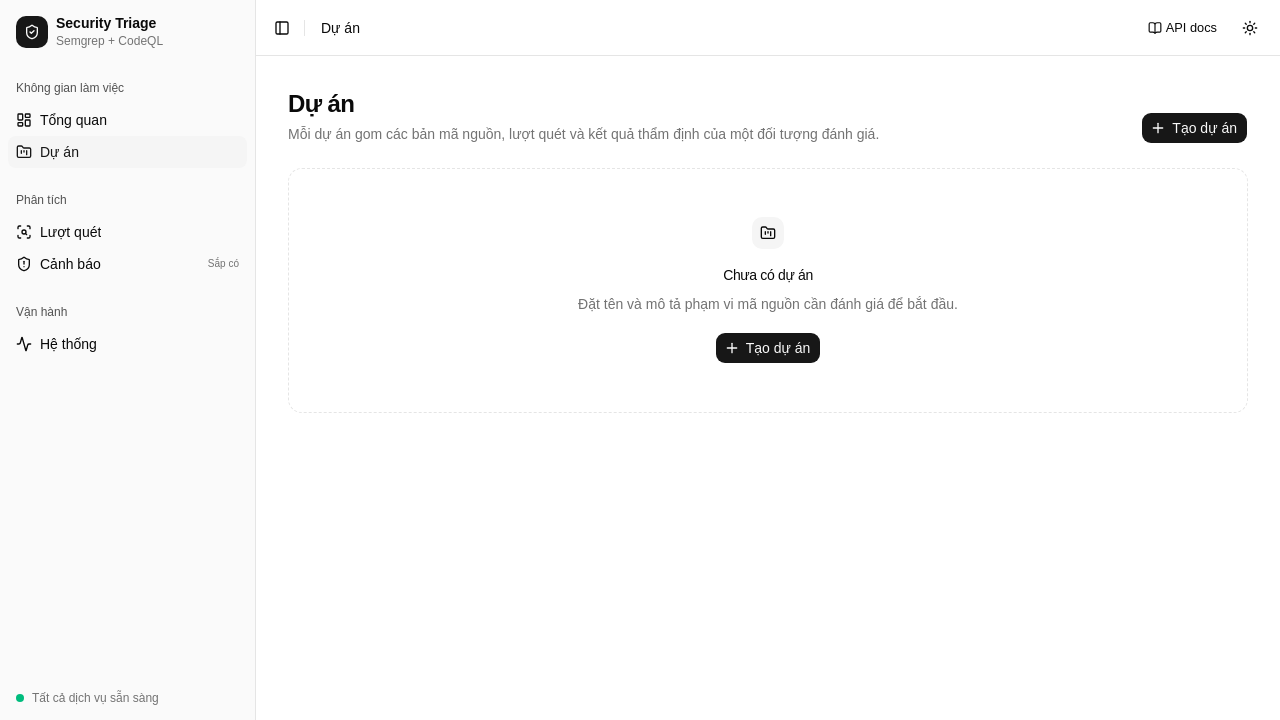
it: Create project dialog › creates the project, then opens its detail page
This screenshot has width=1280, height=720.
Expected: the text "Chưa có dự án" is shown, [723, 265, 813, 285]
Step 1. Click the 1st button "Tạo dự án" → (1195, 128), box [1141, 112, 1248, 144]
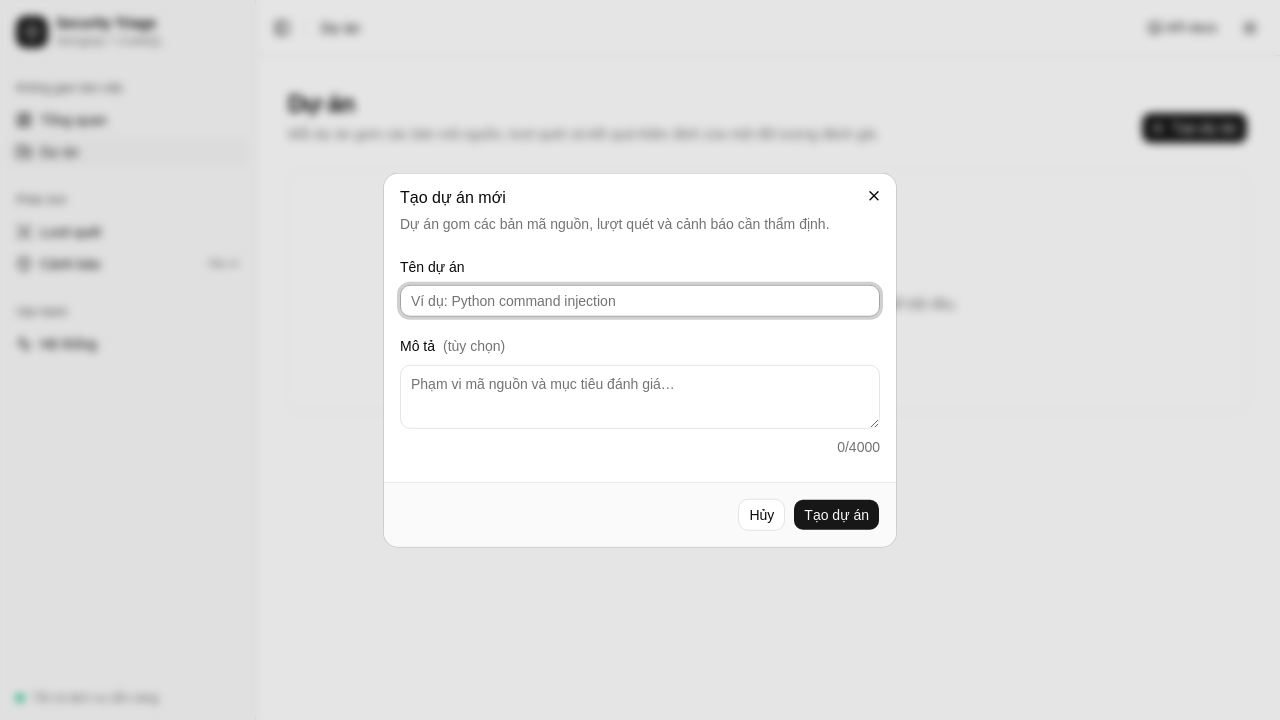
Step 2. Type "  Payment API  " into the field labelled "Tên dự án" → (640, 301), box [400, 285, 880, 317]
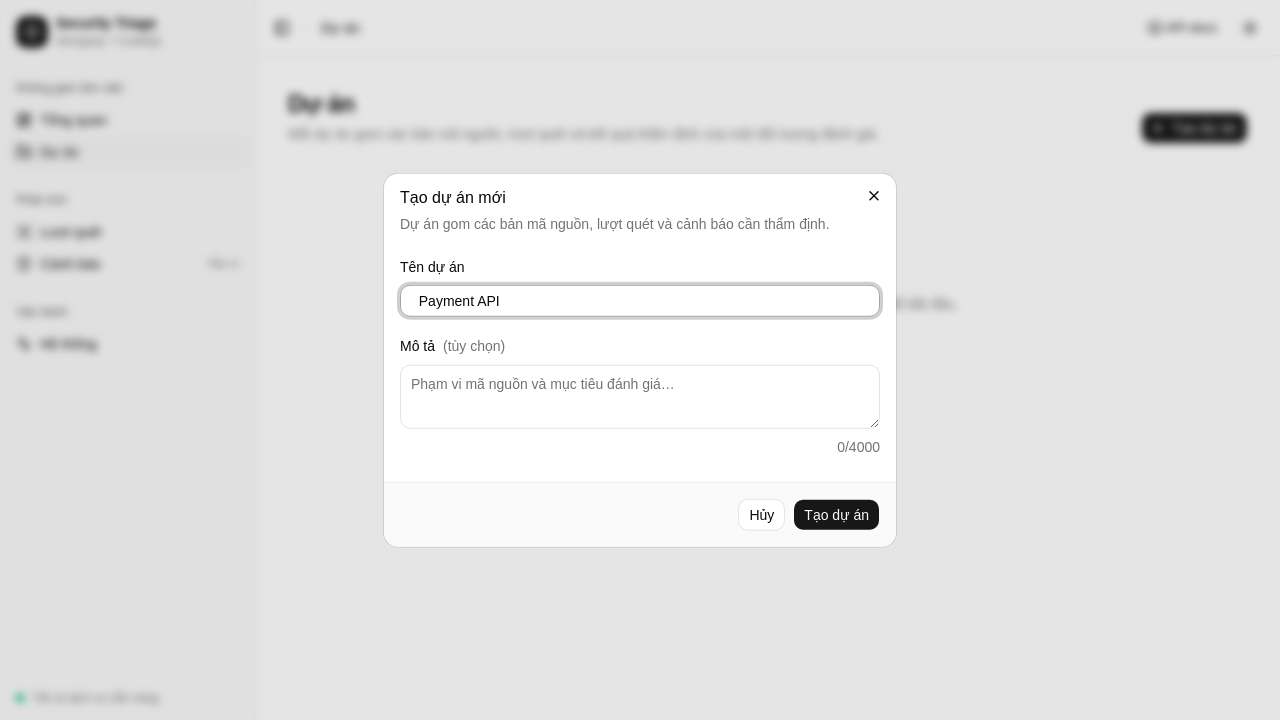
Step 3. Type "CWE-78 review" into the text box labelled "Mô tả (tùy chọn)" → (640, 396), box [400, 364, 880, 428]
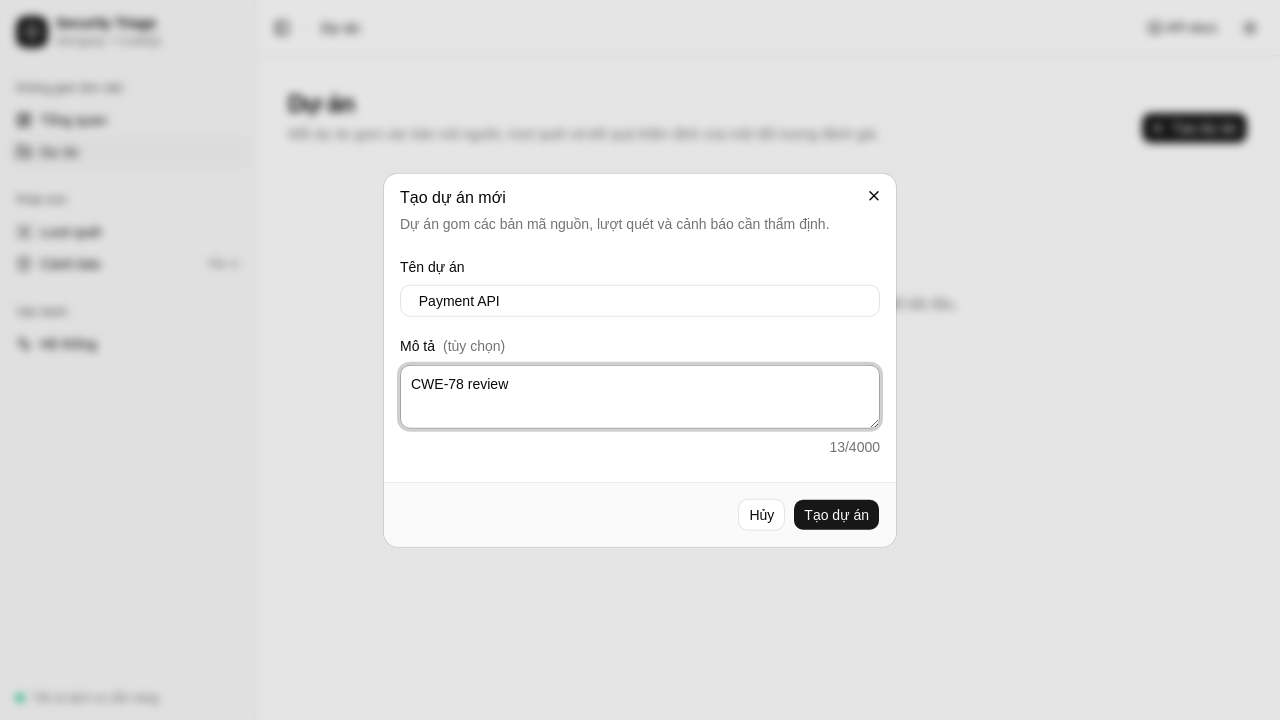
Step 4. Click the button "Tạo dự án" → (837, 514), box [793, 498, 880, 530]
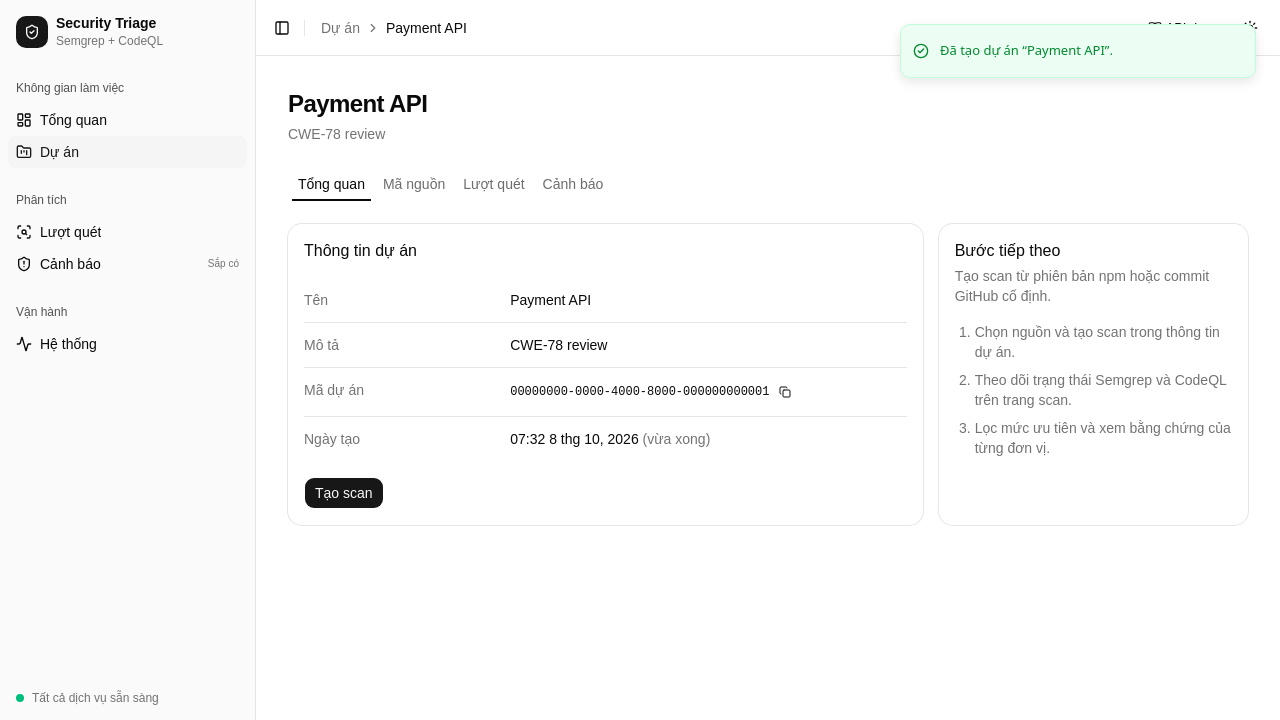
Expected: the heading "Payment API" is shown, [288, 88, 427, 120]
Expected: the text "Đã tạo dự án “Payment API”." is shown, [940, 41, 1113, 60]
Expected: the dialog is gone
